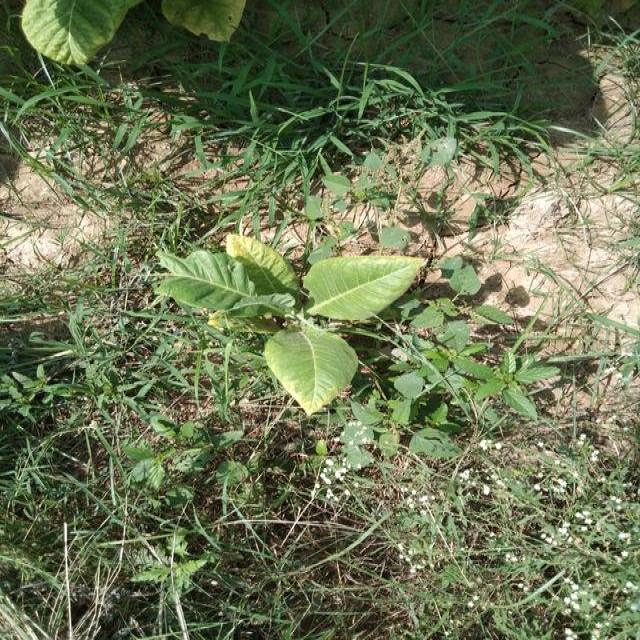crop: (154, 228, 430, 418)
